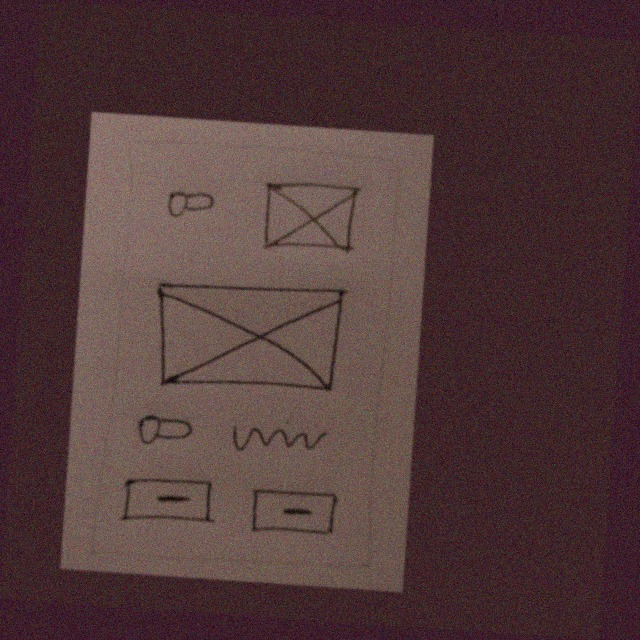button: (119, 467, 219, 532), (242, 480, 343, 543)
image: (144, 272, 350, 405), (252, 174, 367, 261)
switch: (158, 181, 223, 229), (129, 405, 196, 450)
text: (222, 414, 332, 468)
